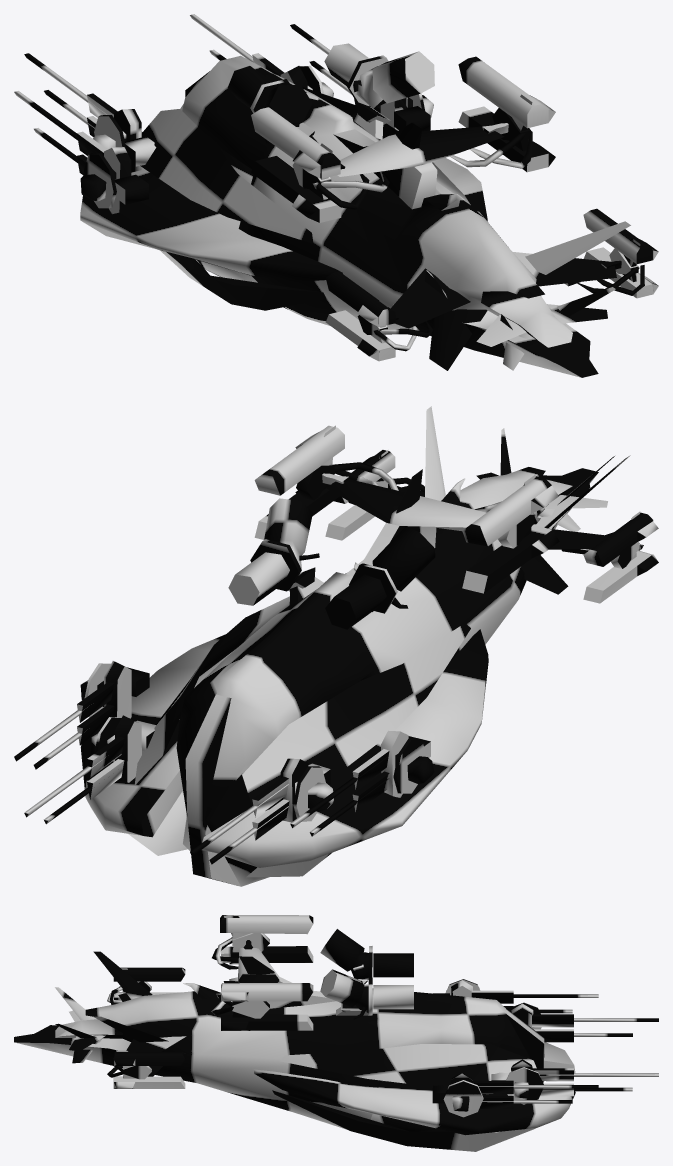
File: century_falcon.obj
3 views of the same model, one above another, from view 1: azimuth 30°, elevation 25°; view 2: azimuth 150°, elevation 25°; view 3: azimuth 270°, elevation 25° (orthographic). The views are drawn at different scales.
Parts seen in each view (by area): view 1: century_falcon; view 2: century_falcon; view 3: century_falcon.
Part boxes in pixels (box(x1,y1,x2,y2)): century_falcon: box(14, 14, 658, 377); century_falcon: box(14, 406, 658, 886); century_falcon: box(14, 915, 658, 1151).
Size of the model in its own units: 2.75 by 2.21 by 6.51.
Materials: 1 (1 with a texture image).
